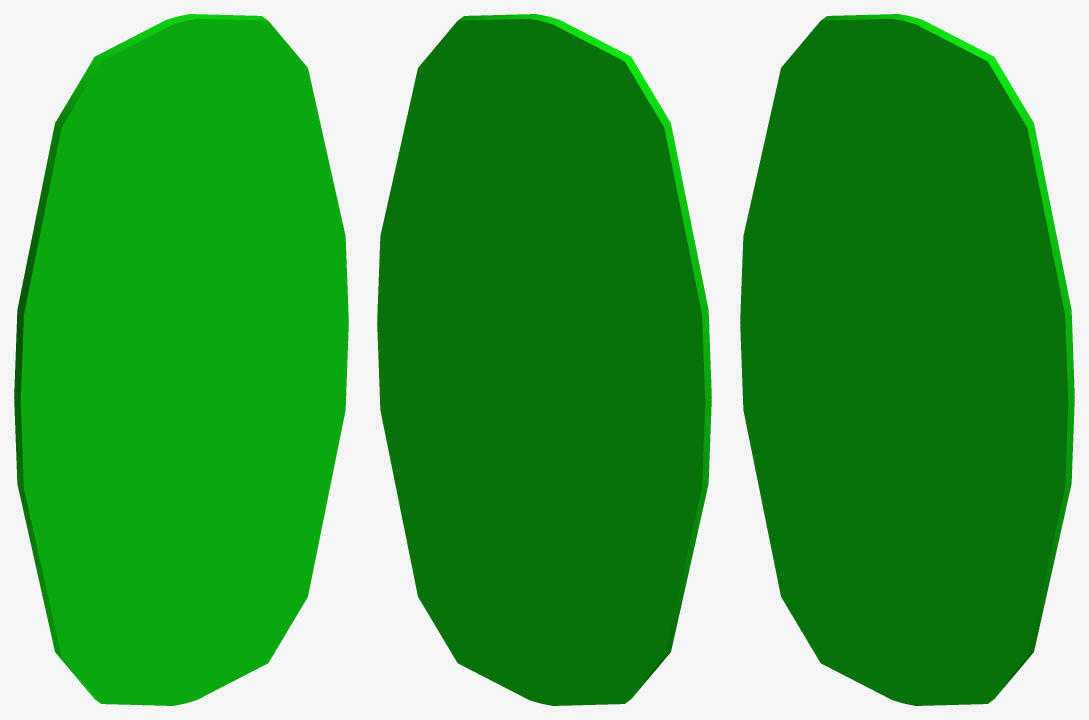
Rendered from oval_02_b.glb.
3 renders of one model, left to right at view 1: azimuth 30°, elevation 25°; view 2: azimuth 150°, elevation 25°; view 3: azimuth 330°, elevation 25°, orthographic.
Parts seen in each view (by area): view 1: longboat_022-mesh; view 2: longboat_022-mesh; view 3: longboat_022-mesh.
Part boxes in pixels (x1,y1,x2,y2): longboat_022-mesh: (14,14,348,705); longboat_022-mesh: (377,14,711,705); longboat_022-mesh: (740,14,1074,705).
Bounding box in the file's own units: 1.33 × 2.65 × 0.0461.
